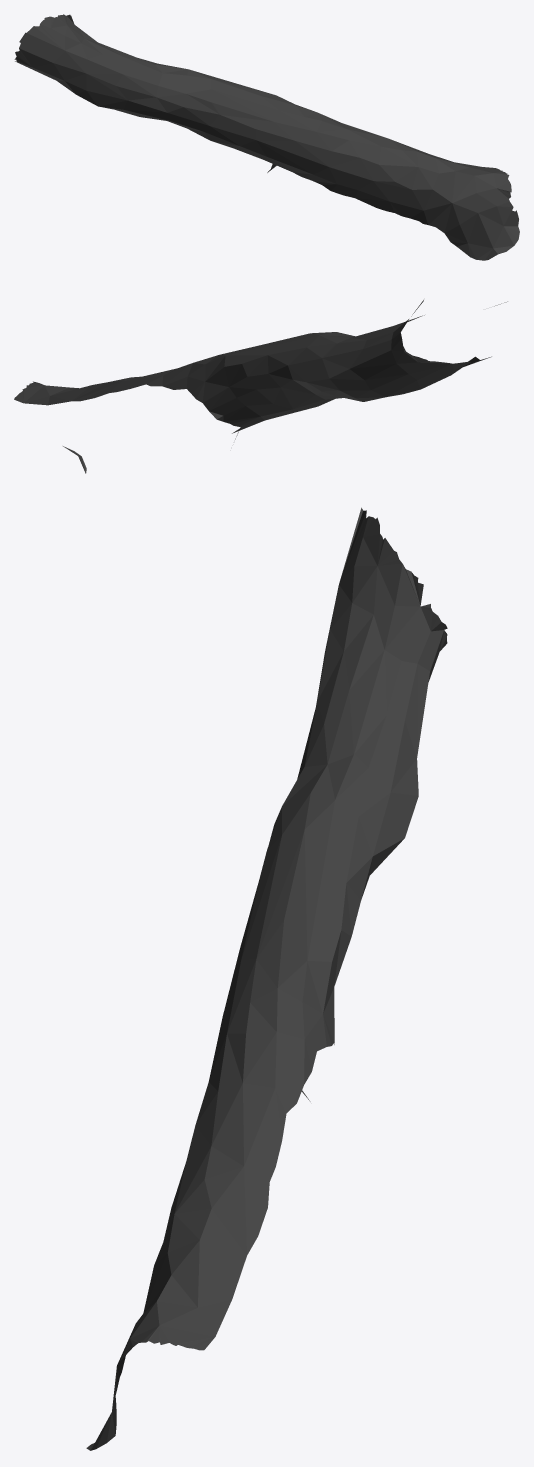
Rendered from A_iliac_external_R_A_iliac_external_R.glb.
3 views of the same model, one above another, from view 1: azimuth 30°, elevation 25°; view 2: azimuth 150°, elevation 25°; view 3: azimuth 270°, elevation 25° (orthographic). The views are drawn at different scales.
Parts seen in each view (by area): view 1: A_iliac_external_R_A_iliac_external_R; view 2: A_iliac_external_R_A_iliac_external_R; view 3: A_iliac_external_R_A_iliac_external_R.
Boxes of the visible parts, bbox=[...] form: A_iliac_external_R_A_iliac_external_R: bbox=[14, 14, 519, 260]; A_iliac_external_R_A_iliac_external_R: bbox=[14, 300, 507, 473]; A_iliac_external_R_A_iliac_external_R: bbox=[86, 507, 447, 1450].
Bounding box in the file's own units: 0.0212 × 0.0131 × 0.00749.
Materials: 1 (1 with a texture image).
